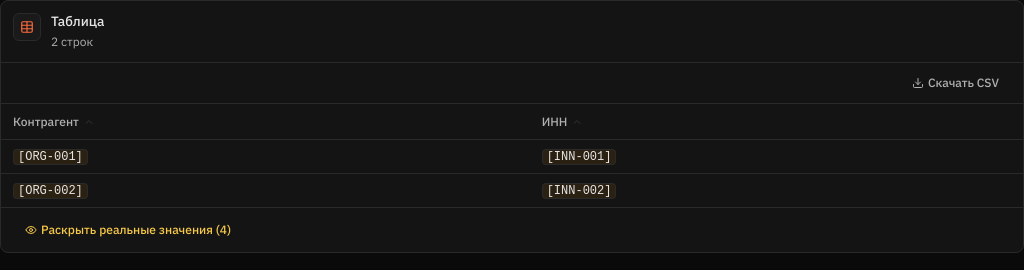
TableCard anon › после раскрытия кнопка исчезает, бейдж «Реальные значения» появляется
Click the button "Раскрыть реальные значения (4)" at {"x": 128, "y": 230}, box top-left (13, 216), bottom-right (243, 244)
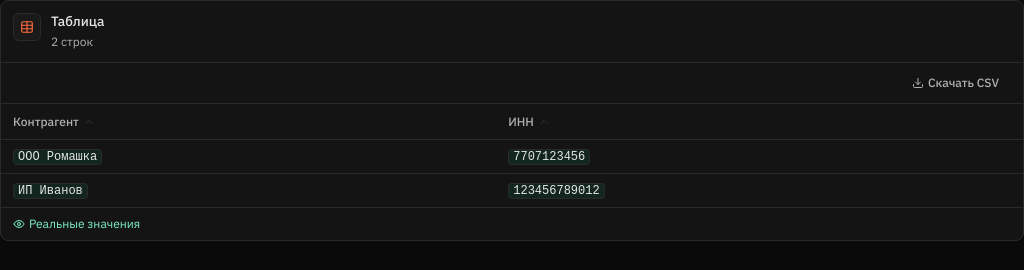
Expected: the text "Реальные значения" is shown, top-left (13, 216), bottom-right (140, 232)
Expected: the button "Раскрыть реальные значения" is gone
